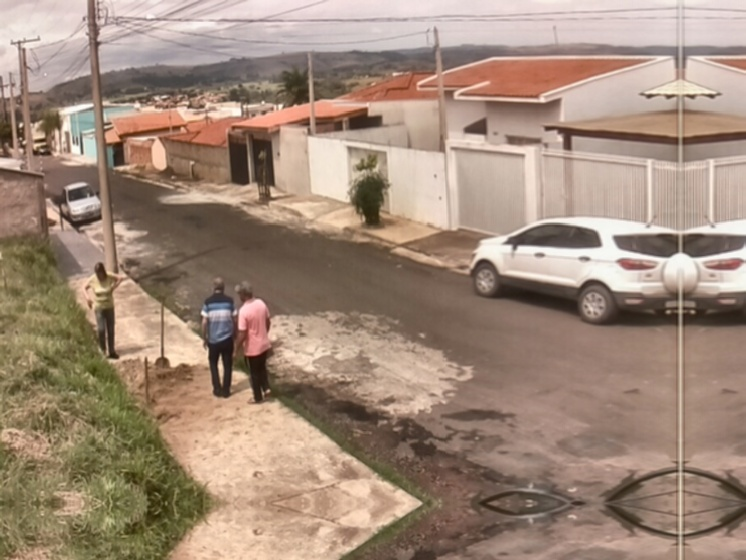person: (200, 277, 240, 399), (234, 282, 274, 403), (81, 261, 123, 360)
